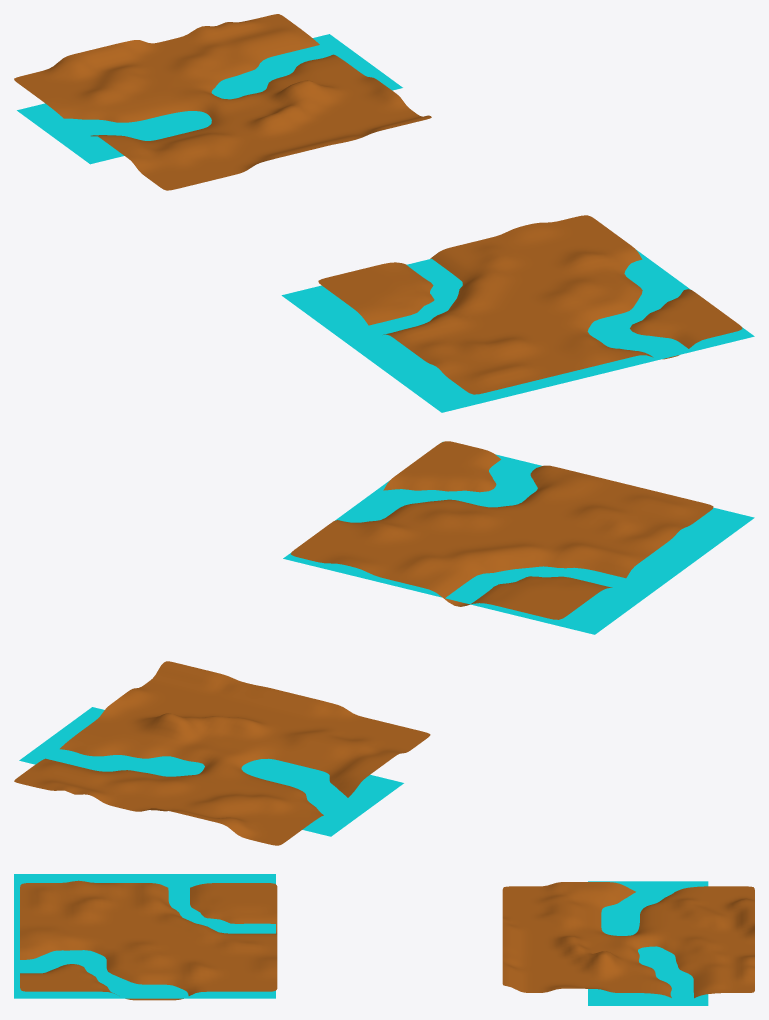
The picture shows the model from 3 angles, top to bottom: view 1: azimuth 30°, elevation 25°; view 2: azimuth 150°, elevation 25°; view 3: azimuth 270°, elevation 25°; orthographic projection. The views are drawn at different scales.
Parts seen in each view (by area): view 1: scene2, scene1, water2, water1; view 2: scene1, scene2, water2, water1; view 3: scene2, scene1, water2, water1.
Part boxes in pixels (<box>): scene2: <box>318,215,742,394</box>; scene1: <box>14,14,431,190</box>; water2: <box>281,249,754,412</box>; water1: <box>17,34,402,164</box>; scene1: <box>14,661,430,845</box>; scene2: <box>291,441,713,619</box>; water2: <box>283,441,754,634</box>; water1: <box>19,707,403,836</box>; scene2: <box>20,880,277,1000</box>; scene1: <box>502,882,754,998</box>; water2: <box>14,874,275,998</box>; water1: <box>588,881,708,1005</box>.
Size of the model in its own units: 5722 by 486 by 14369.
